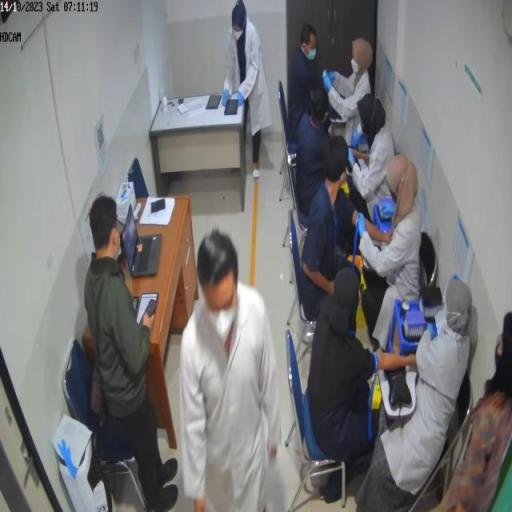person: (84, 195, 180, 505), (180, 230, 282, 509), (356, 275, 473, 510), (305, 269, 418, 477), (435, 315, 512, 512), (302, 136, 377, 318), (359, 152, 423, 351), (223, 1, 274, 183), (352, 96, 397, 207), (296, 88, 332, 219), (326, 39, 375, 124), (289, 24, 321, 151)
